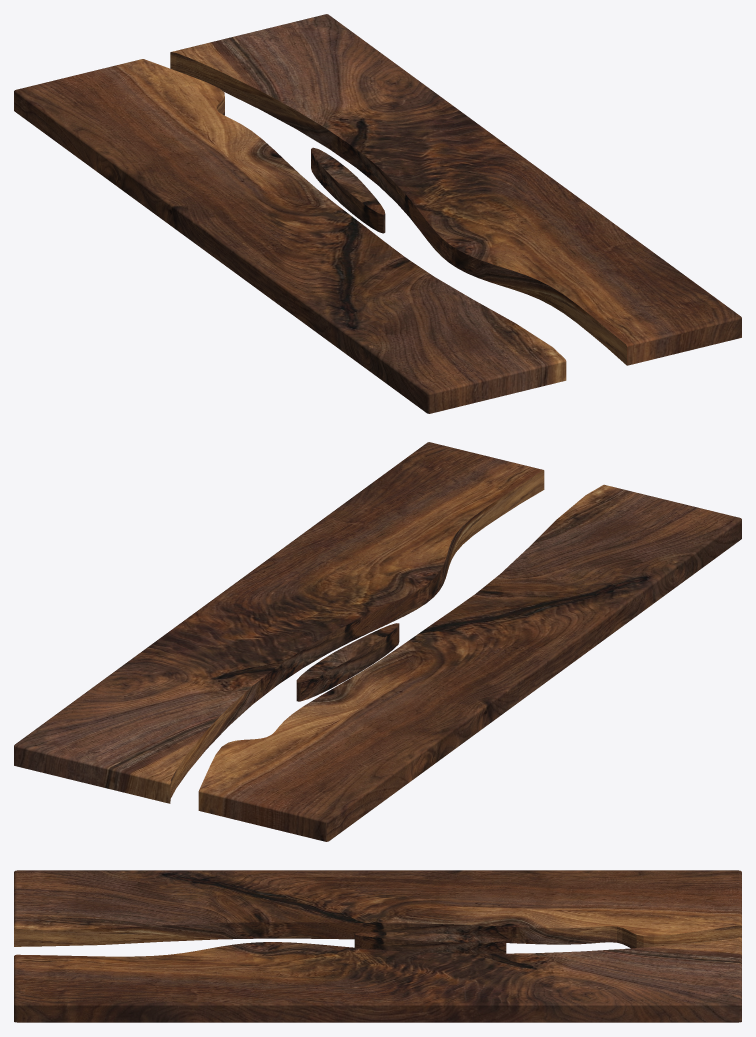
File: Walnut tabletop.glb
The picture shows the model from 3 angles, top to bottom: view 1: azimuth 30°, elevation 25°; view 2: azimuth 150°, elevation 25°; view 3: azimuth 270°, elevation 25°; orthographic projection. The views are drawn at different scales.
Parts seen in each view (by area): view 1: Tabletop; view 2: Tabletop; view 3: Tabletop.
Part boxes in pixels (<box>): Tabletop: <box>14,14,741,413</box>; Tabletop: <box>14,442,741,841</box>; Tabletop: <box>14,870,741,1022</box>.
Bounding box in the file's own units: 1.07 × 0.0669 × 2.44.
Materials: 1 (1 with a texture image).
